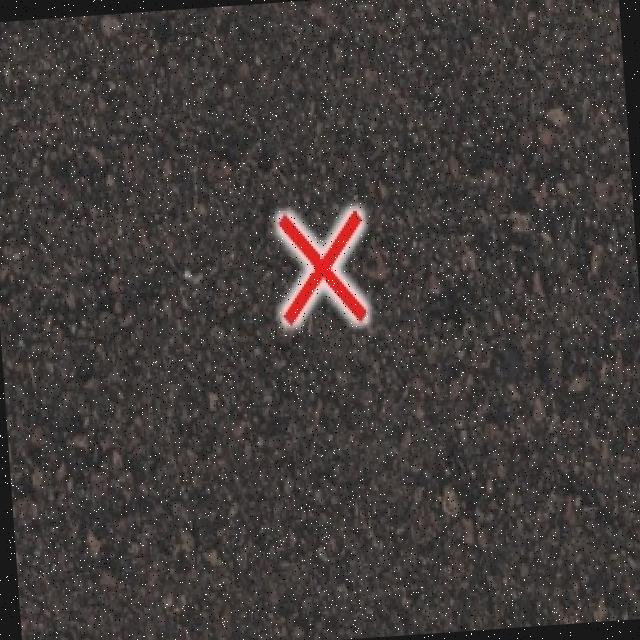x_marker: (276, 209, 367, 324)
